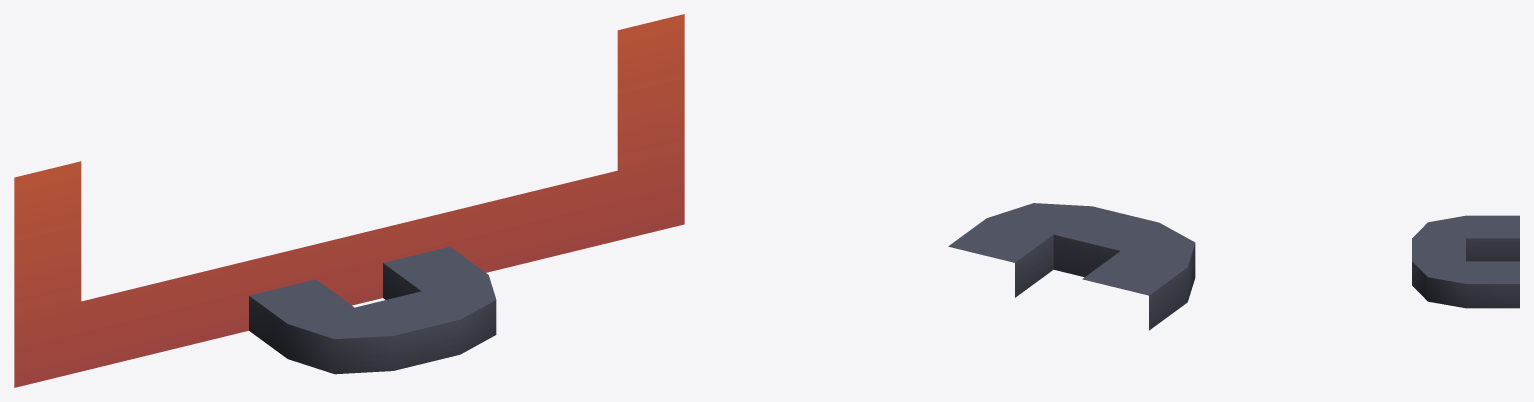
The model's file is kenney-toy-car-track-striped-narrow-cap-back.glb.
3 renders of one model, left to right at view 1: azimuth 30°, elevation 25°; view 2: azimuth 150°, elevation 25°; view 3: azimuth 270°, elevation 25°, orthographic. The views are drawn at different scales.
Parts seen in each view (by area): view 1: track-striped-narrow-cap-back; view 2: track-striped-narrow-cap-back; view 3: track-striped-narrow-cap-back.
Part boxes in pixels (x1,y1,x2,y2): track-striped-narrow-cap-back: [14, 14, 684, 387]; track-striped-narrow-cap-back: [948, 203, 1195, 330]; track-striped-narrow-cap-back: [1412, 215, 1519, 308].
Size of the model in its own units: 1 by 0.3 by 0.2.
Materials: 1 (1 with a texture image).
